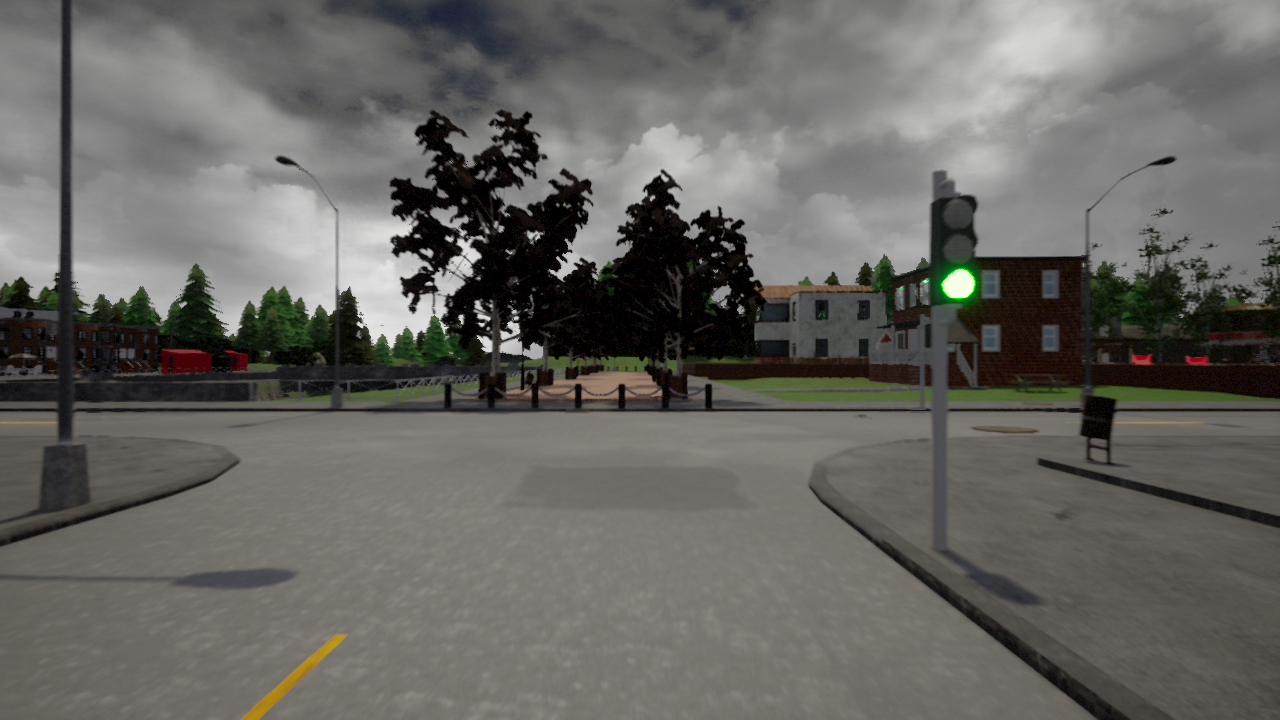green: (923, 186, 981, 305)
